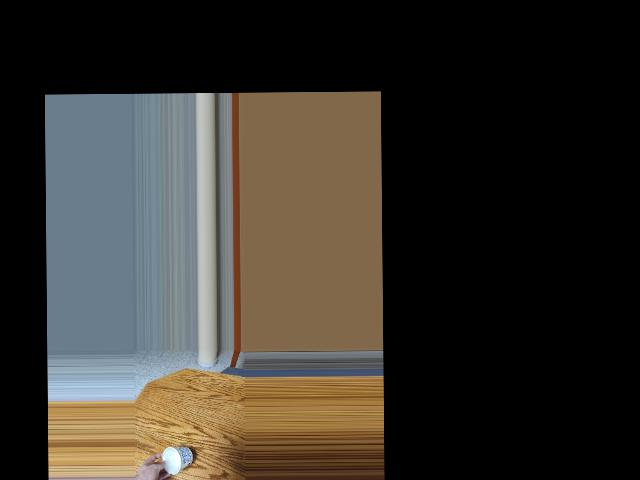cotage: (161, 446, 195, 469)
